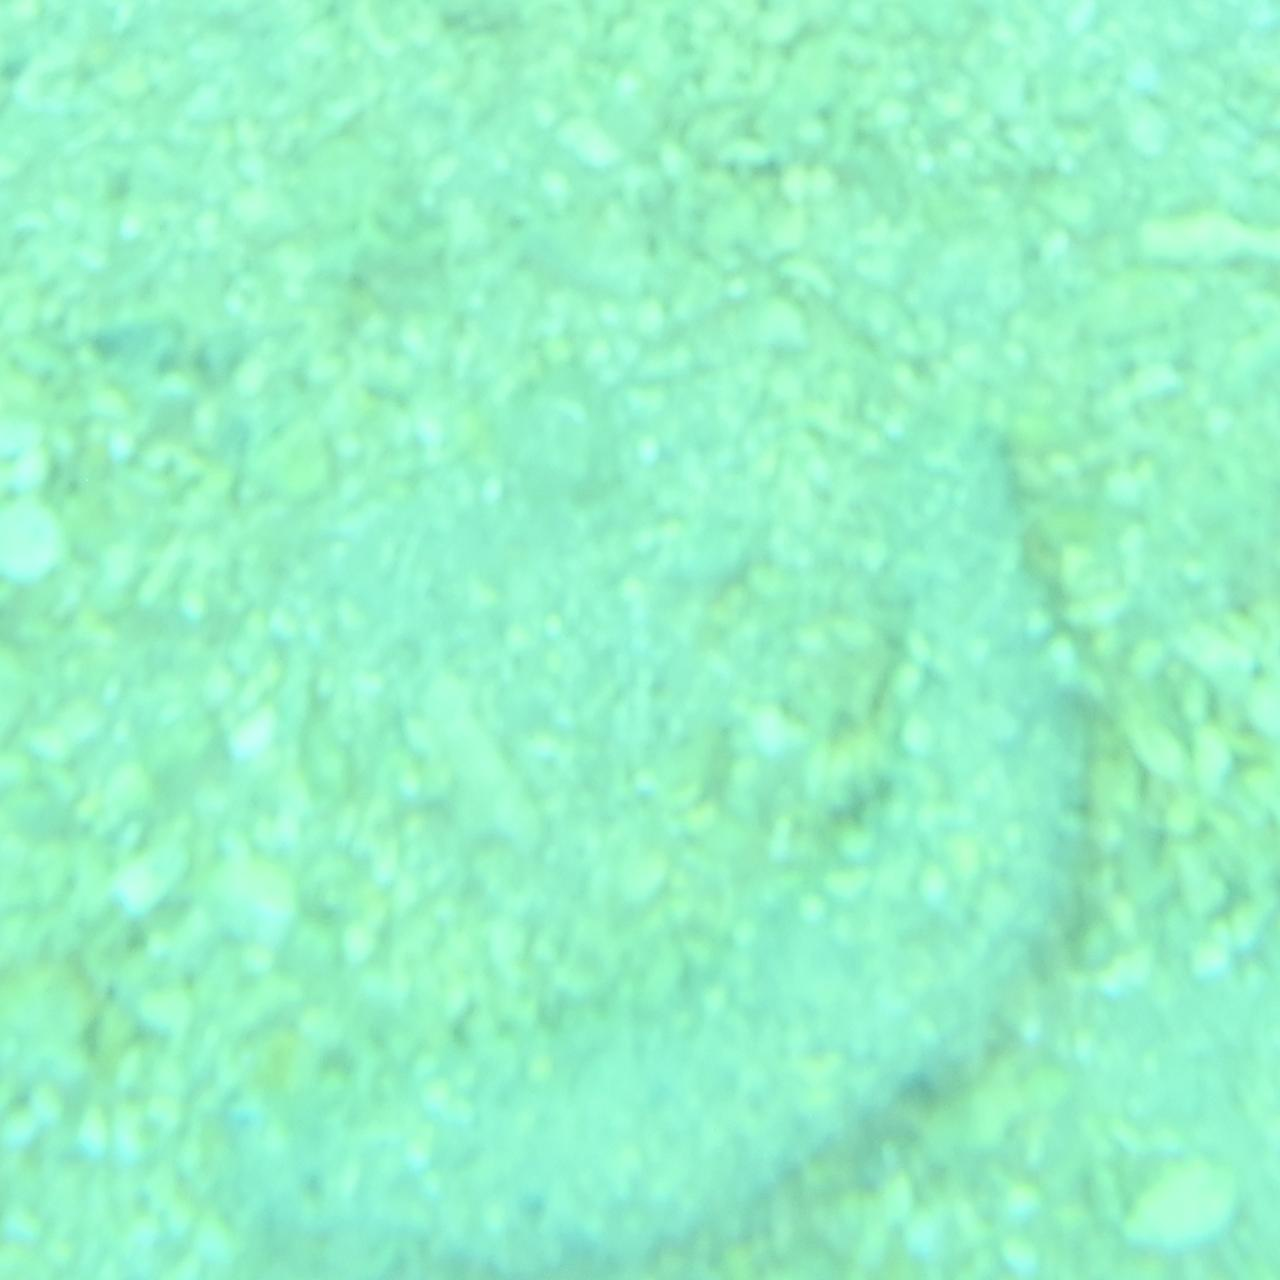Holothuria tubulosa: (175, 407, 1105, 1280)
